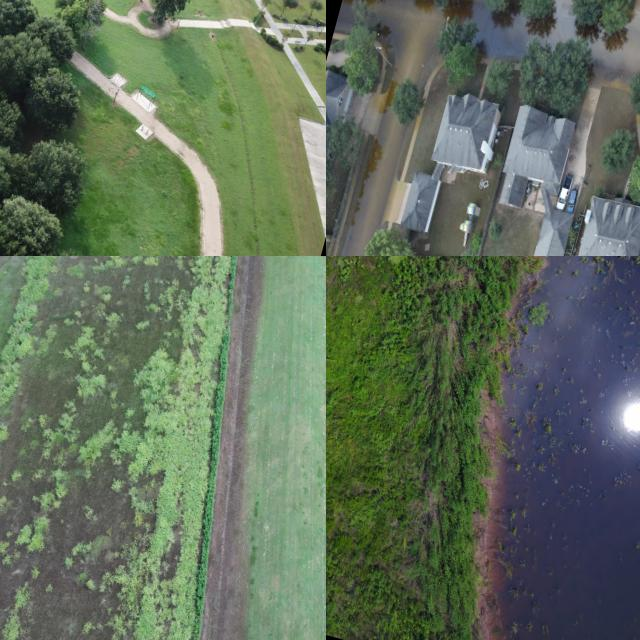fire: (493, 256, 640, 640), (346, 0, 533, 246), (341, 121, 403, 256), (589, 26, 640, 83), (536, 0, 576, 48)
